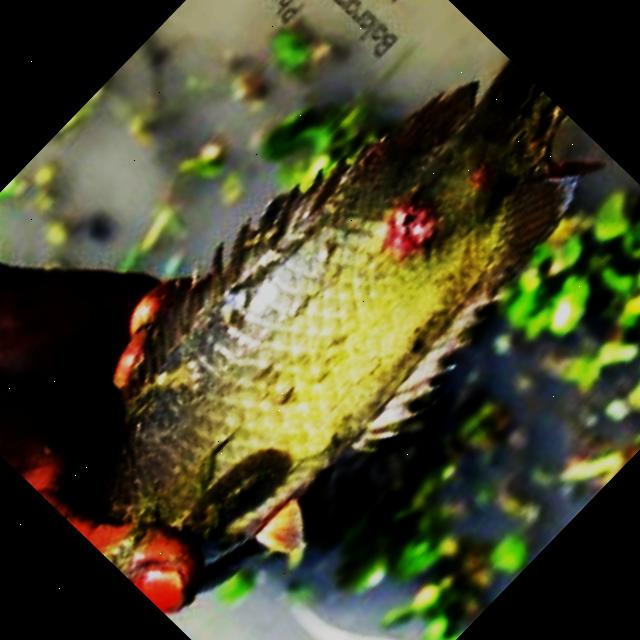Edwardsiella Ictaluri -Bacterial Red Disease-: (101, 62, 584, 564)
